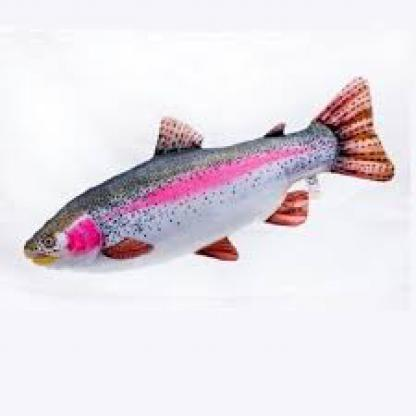fish: (19, 75, 392, 271)
